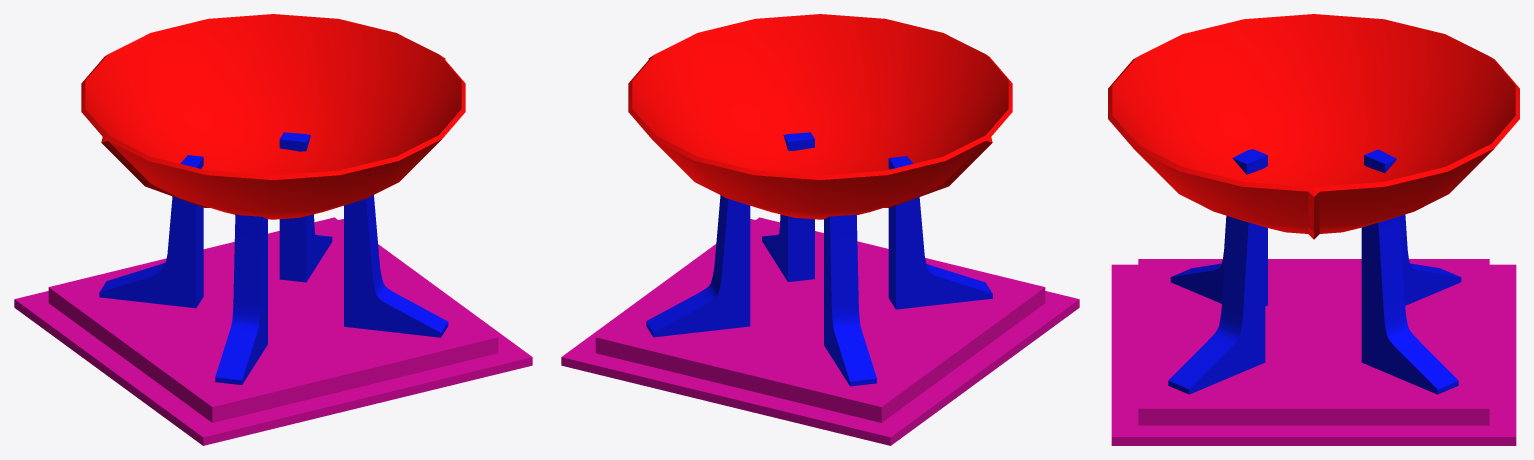
File: vasque.fbx
3 views of the same model, side by side, from view 1: azimuth 30°, elevation 25°; view 2: azimuth 150°, elevation 25°; view 3: azimuth 270°, elevation 25° (orthographic). The views are drawn at different scales.
Visible parts, largest first — view 1: Sphere001, Box001, Box002; view 2: Sphere001, Box001, Box002; view 3: Sphere001, Box001, Box002.
Part boxes in pixels (left/top/right/bottom): Sphere001: left=81, top=14, right=465, bottom=219; Box001: left=14, top=217, right=532, bottom=445; Box002: left=99, top=132, right=448, bottom=384; Sphere001: left=628, top=14, right=1012, bottom=219; Box001: left=561, top=217, right=1079, bottom=445; Box002: left=646, top=132, right=992, bottom=386; Sphere001: left=1108, top=14, right=1519, bottom=239; Box001: left=1111, top=259, right=1516, bottom=445; Box002: left=1168, top=149, right=1461, bottom=394.
Bounding box in the file's own units: 72.5 × 48.63 × 69.99.
